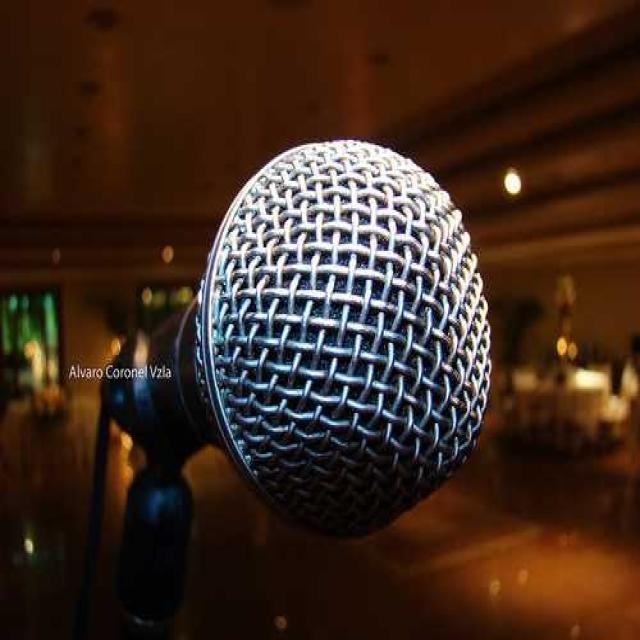microphone: (111, 122, 506, 533)
